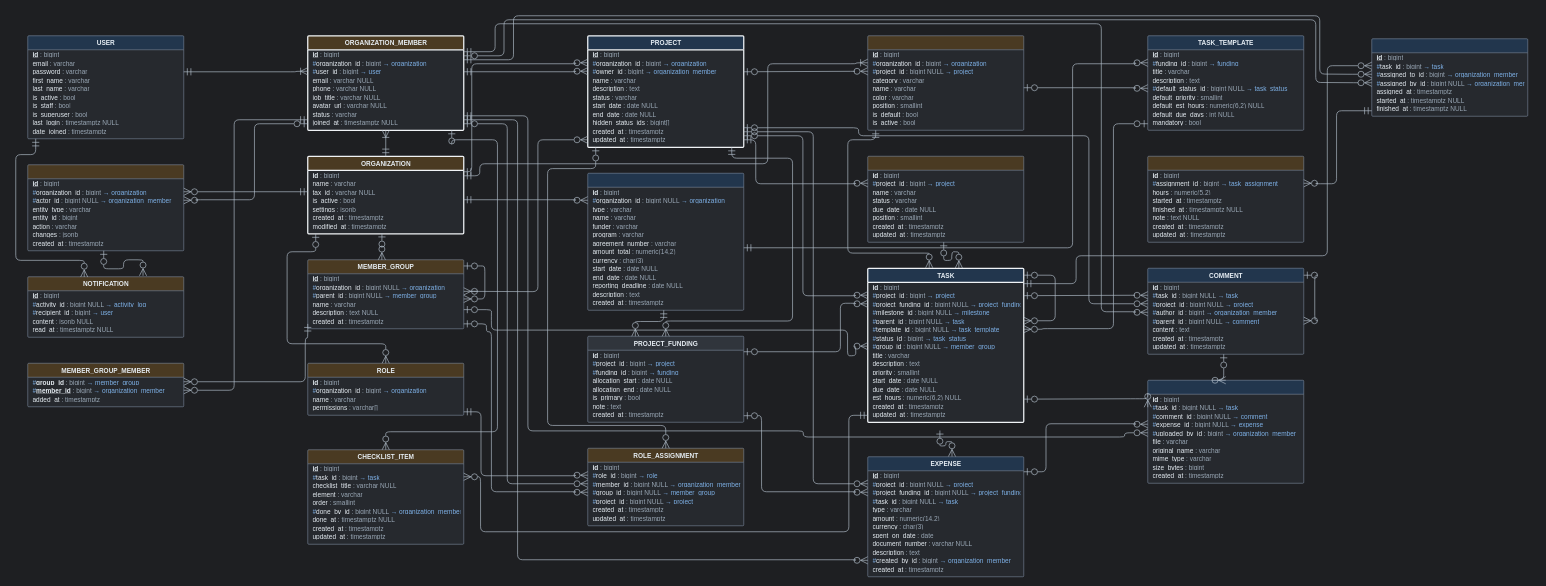
The diagram is 1546 pixels wide and 586 high, and some of its shapes have lost their labels. Here are the shapes that lost their labels. From the top down, the box of each, then its label:
(867, 35, 1024, 130): TASK_STATUS
(1371, 38, 1528, 116): TASK_ASSIGNMENT
(27, 164, 184, 251): ACTIVITY_LOG
(867, 156, 1024, 242): MILESTONE
(1147, 156, 1304, 242): TIME_ENTRY
(587, 173, 744, 310): FUNDING
(1147, 380, 1304, 483): ATTACHMENT
